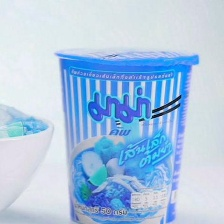paper_cup: (49, 41, 203, 224)
